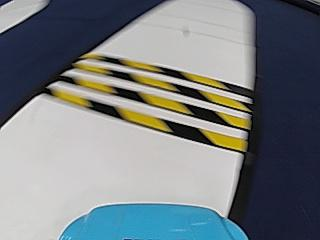bump: (41, 50, 258, 146)
